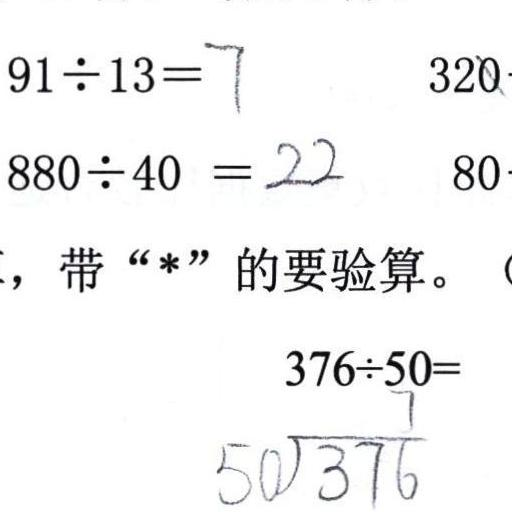ans: (263, 130, 343, 189), (201, 35, 244, 113)
